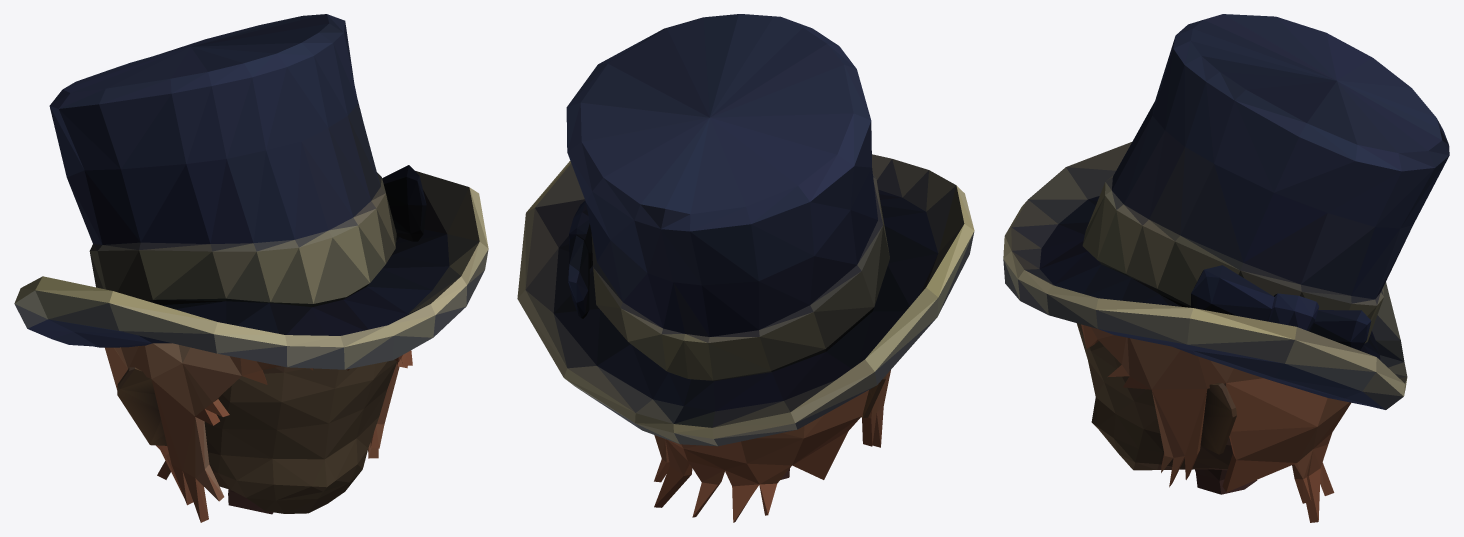
File: helm_darkskin_standard_blonde_tophat.fbx
3 renders of one model, left to right at view 1: azimuth 30°, elevation 25°; view 2: azimuth 150°, elevation 25°; view 3: azimuth 270°, elevation 25°, orthographic. The views are drawn at different scales.
Parts seen in each view (by area): view 1: helm_darkskin_standard_blonde_tophat; view 2: helm_darkskin_standard_blonde_tophat; view 3: helm_darkskin_standard_blonde_tophat.
Part boxes in pixels (box(x1,y1,x2,y2)): helm_darkskin_standard_blonde_tophat: box(14, 14, 488, 522); helm_darkskin_standard_blonde_tophat: box(517, 14, 974, 522); helm_darkskin_standard_blonde_tophat: box(1003, 14, 1449, 522).
Bounding box in the file's own units: 1.67 × 1.86 × 1.64.
